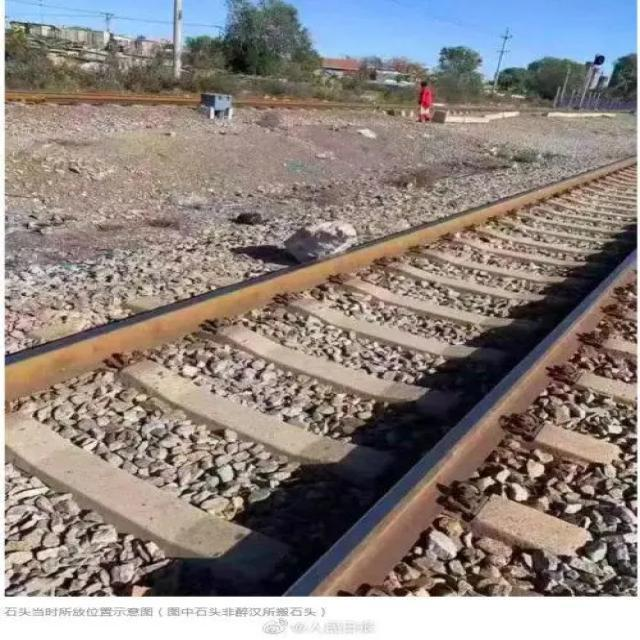Stone: (283, 211, 356, 268)
people: (411, 75, 441, 128)
